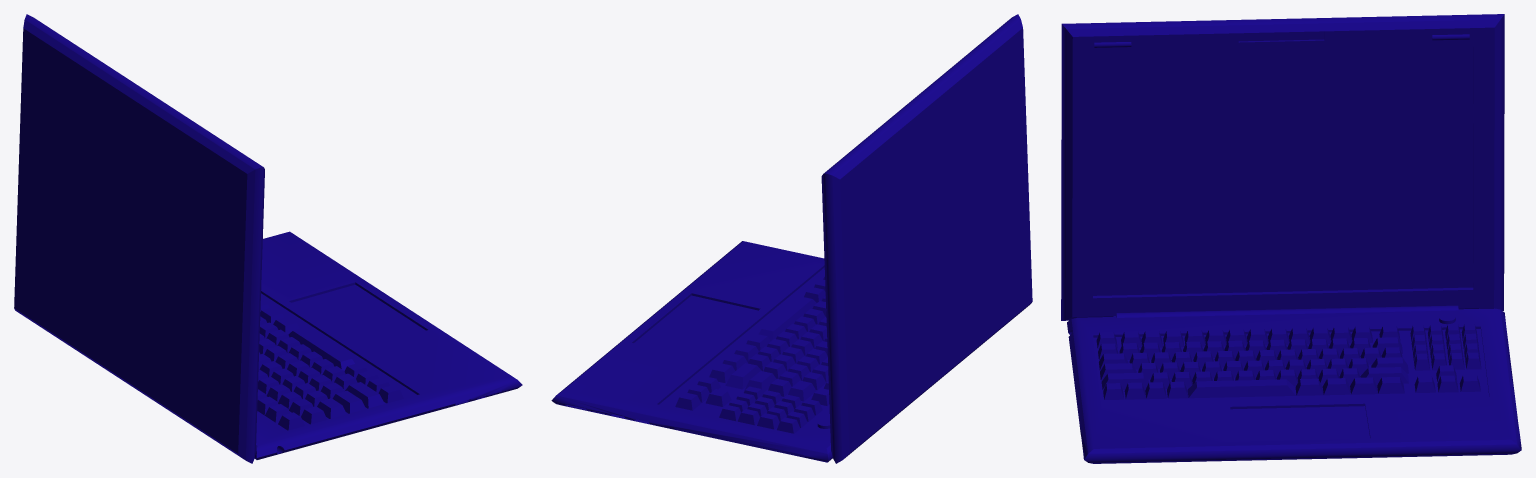
The model's file is Computadora.fbx.
3 renders of one model, left to right at view 1: azimuth 30°, elevation 25°; view 2: azimuth 150°, elevation 25°; view 3: azimuth 270°, elevation 25°, orthographic. The views are drawn at different scales.
Visible parts, largest first — view 1: polySurface3008; view 2: polySurface3008; view 3: polySurface3008.
Boxes of the visible parts, <box> form: polySurface3008: <box>14,14,522,463</box>; polySurface3008: <box>551,14,1032,463</box>; polySurface3008: <box>1061,14,1521,463</box>.
Bounding box in the file's own units: 3.43 × 3.17 × 4.31.
